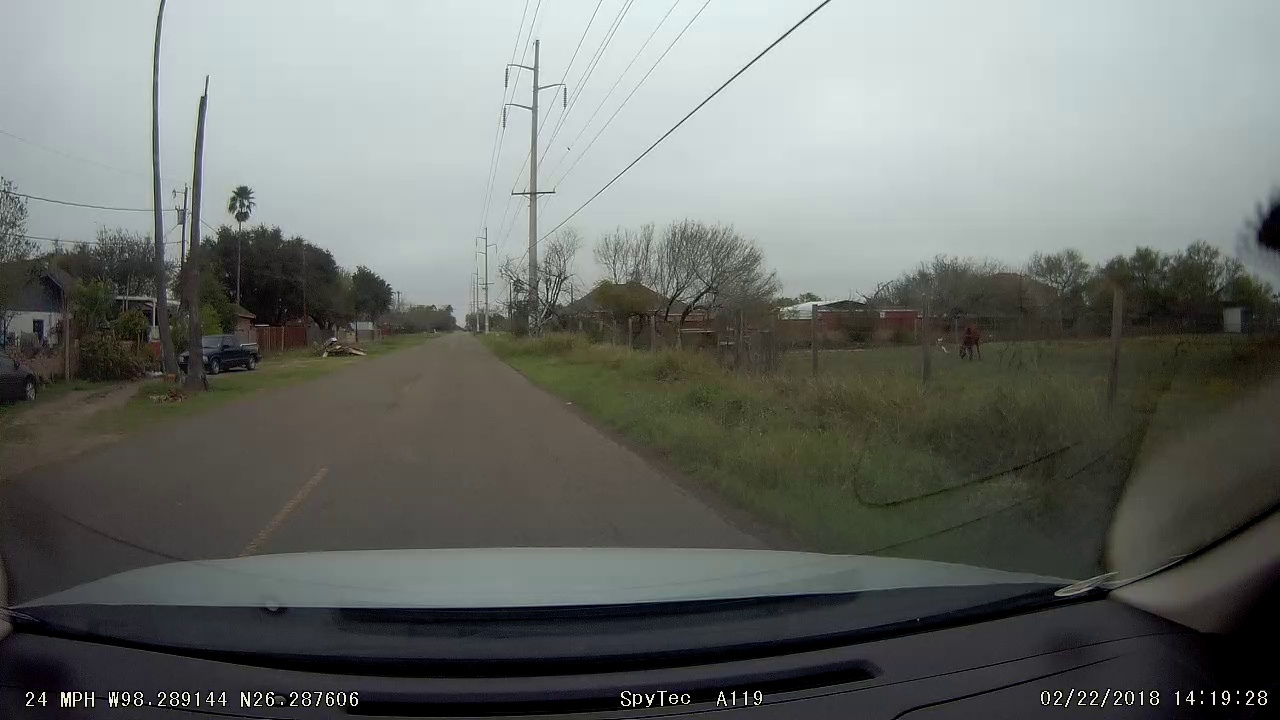blurredLine: (379, 378, 417, 416)
